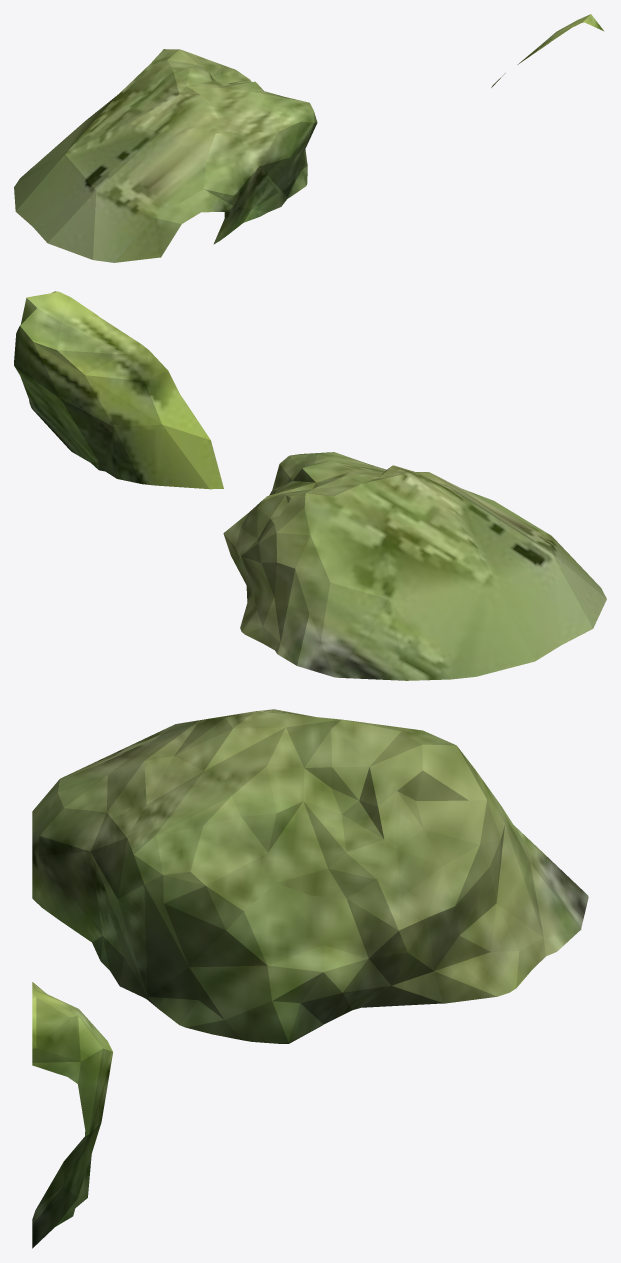
The picture shows the model from 3 angles, top to bottom: view 1: azimuth 30°, elevation 25°; view 2: azimuth 150°, elevation 25°; view 3: azimuth 270°, elevation 25°; orthographic projection. The views are drawn at different scales.
Bounding box in the file's own units: 16.29 × 3.97 × 7.59.
Materials: 1 (1 with a texture image).
